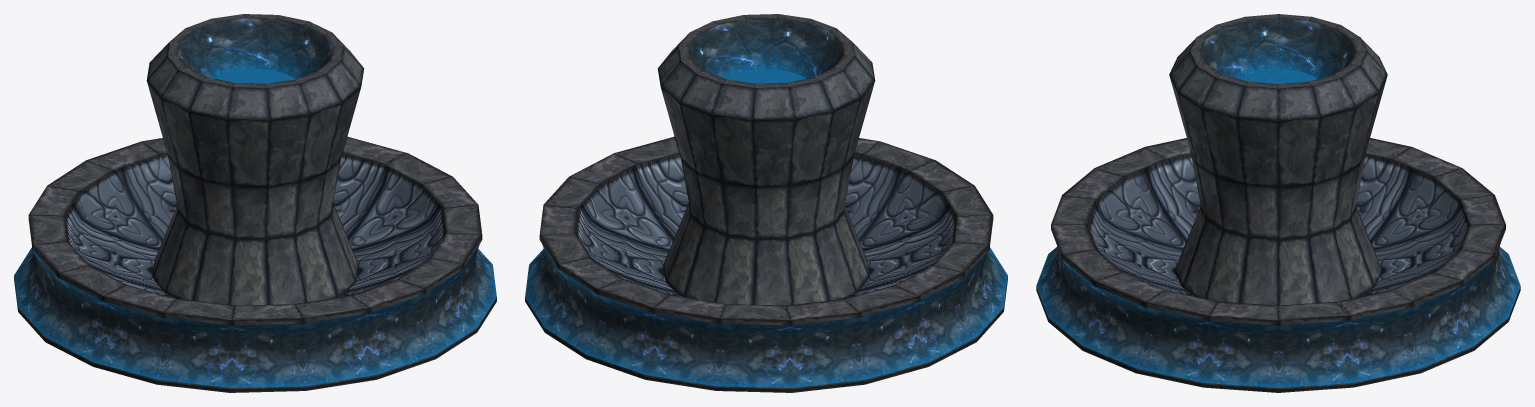
Rendered from Pulse Tower.fbx.
3 renders of one model, left to right at view 1: azimuth 30°, elevation 25°; view 2: azimuth 150°, elevation 25°; view 3: azimuth 270°, elevation 25°, orthographic.
Parts seen in each view (by area): view 1: polySurface27; view 2: polySurface27; view 3: polySurface27.
Boxes of the visible parts, x1,y1,x2,y2 form: polySurface27: [14, 14, 496, 392]; polySurface27: [525, 14, 1007, 392]; polySurface27: [1036, 14, 1520, 392].
Size of the model in its own units: 159 by 86.82 by 159.
Materials: 2 (2 with a texture image).
